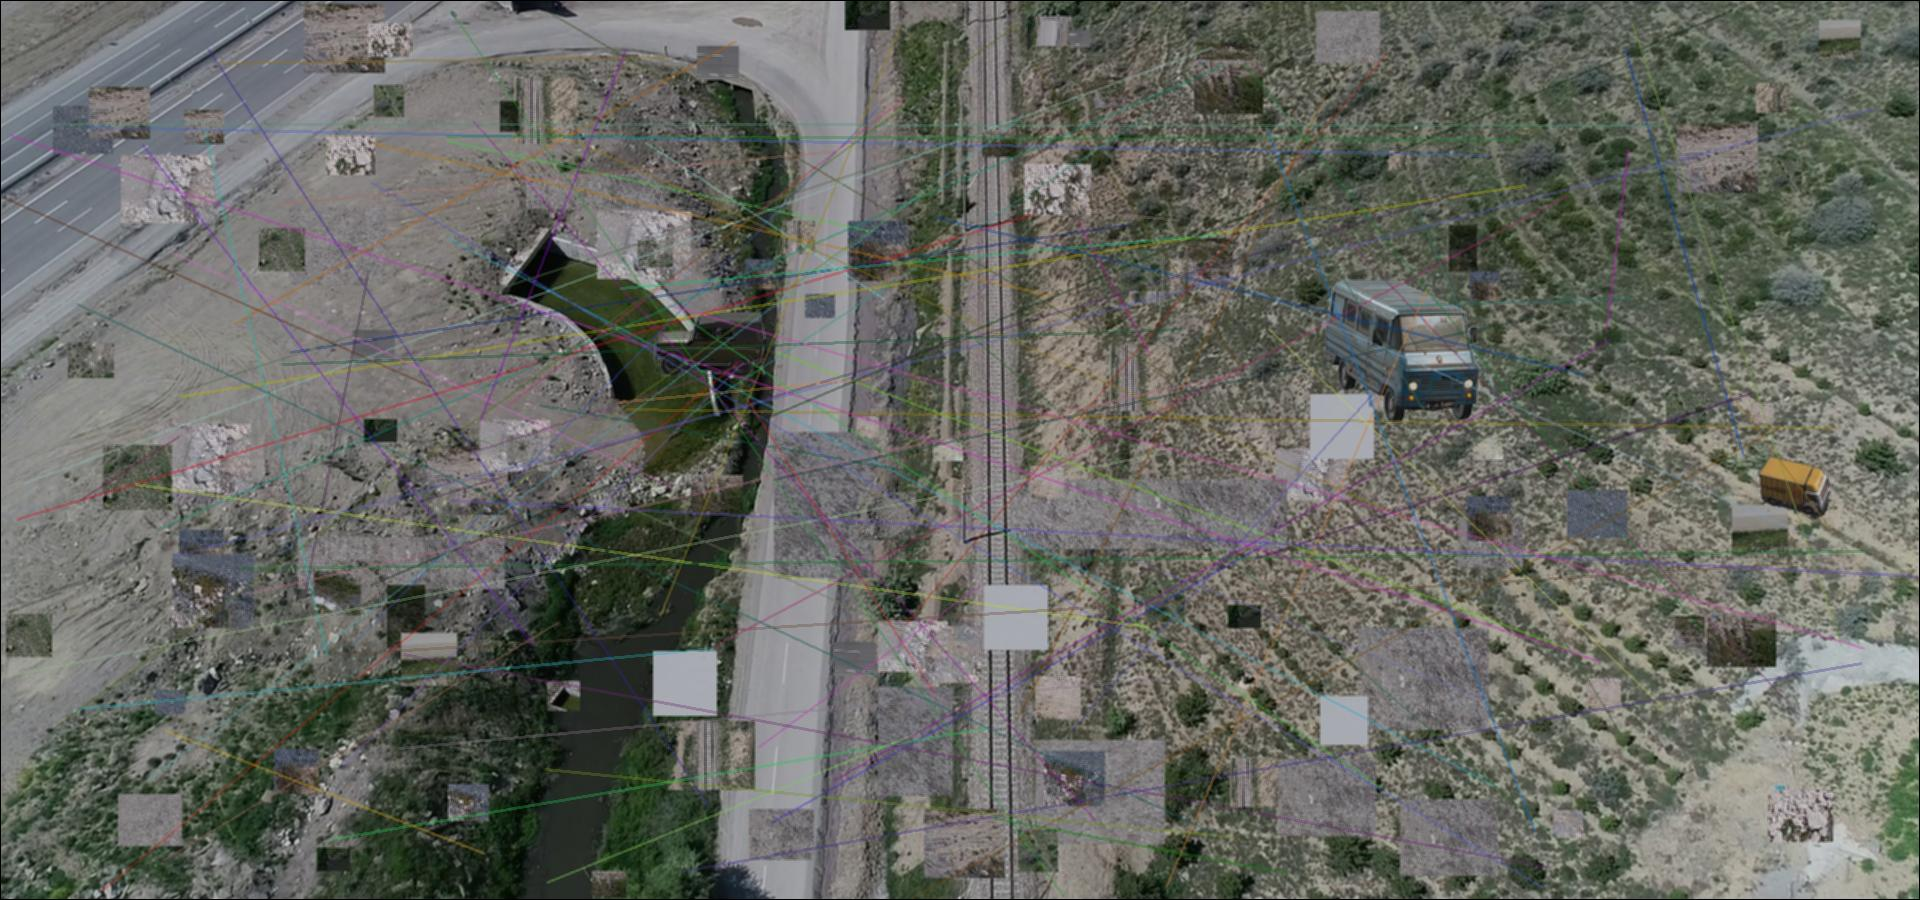arac: (1319, 276, 1485, 426), (654, 311, 765, 377), (1757, 456, 1832, 519)
